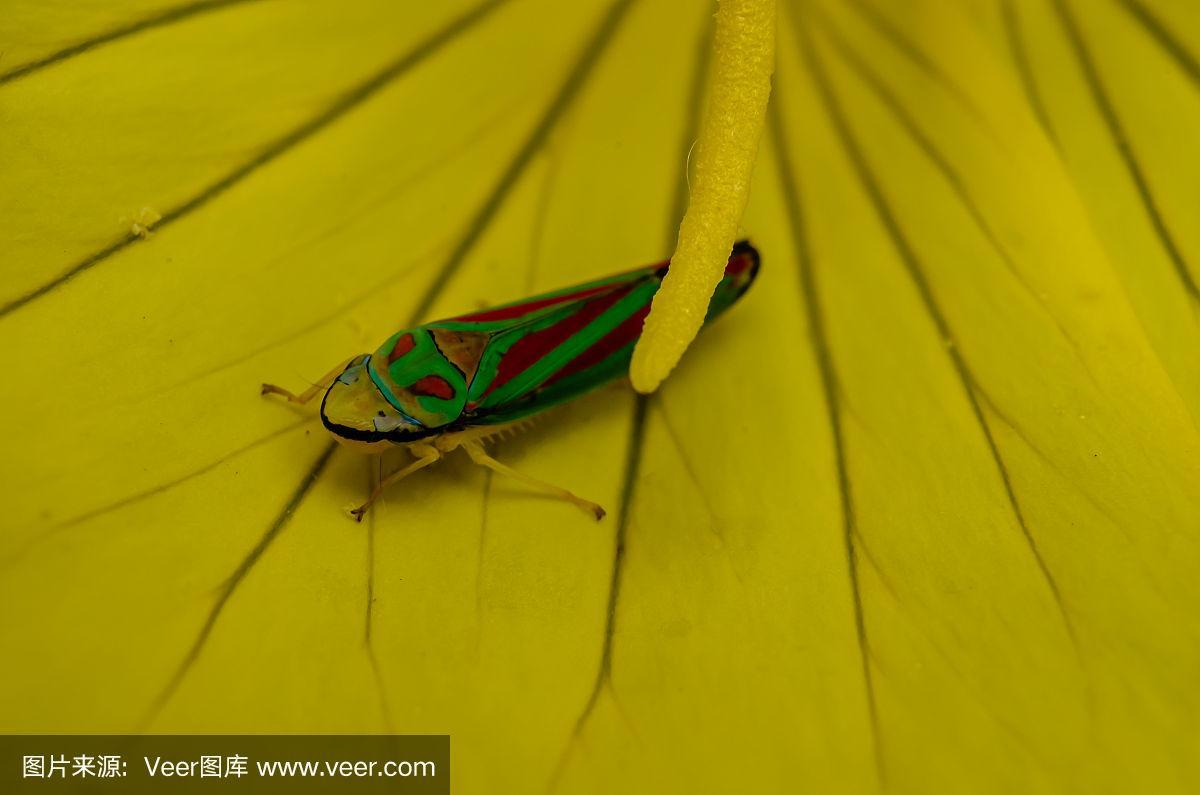Cicadellidae: (269, 244, 758, 525)
